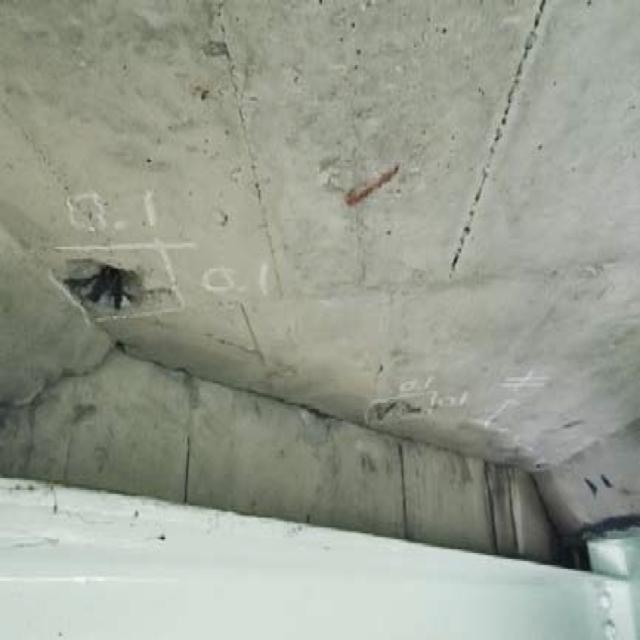spalling: (50, 243, 176, 328), (377, 378, 452, 446)
